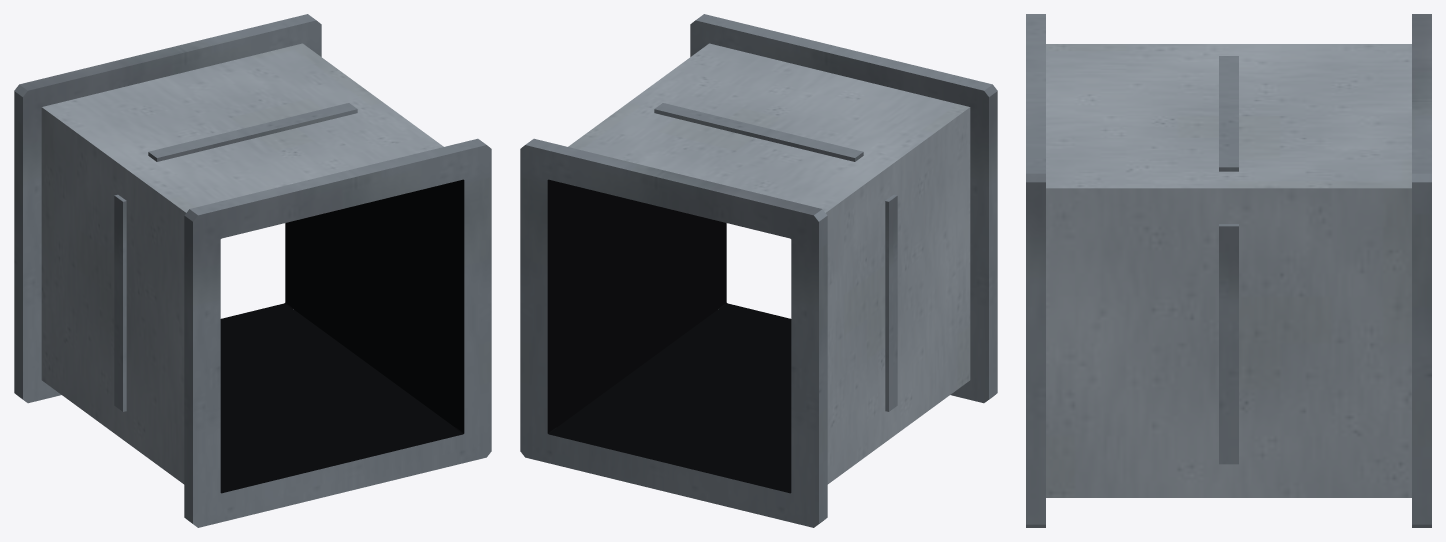
The model's file is duct_short.glb.
3 views of the same model, side by side, from view 1: azimuth 30°, elevation 25°; view 2: azimuth 150°, elevation 25°; view 3: azimuth 270°, elevation 25° (orthographic). The views are drawn at different scales.
Parts seen in each view (by area): view 1: Body; view 2: Body; view 3: Body.
Boxes of the visible parts, x1,y1,x2,y2 form: Body: [14, 14, 491, 527]; Body: [520, 14, 997, 527]; Body: [1026, 14, 1431, 527].
Size of the model in its own units: 0.238 by 0.238 by 0.247.
Materials: 3 (2 with a texture image).
